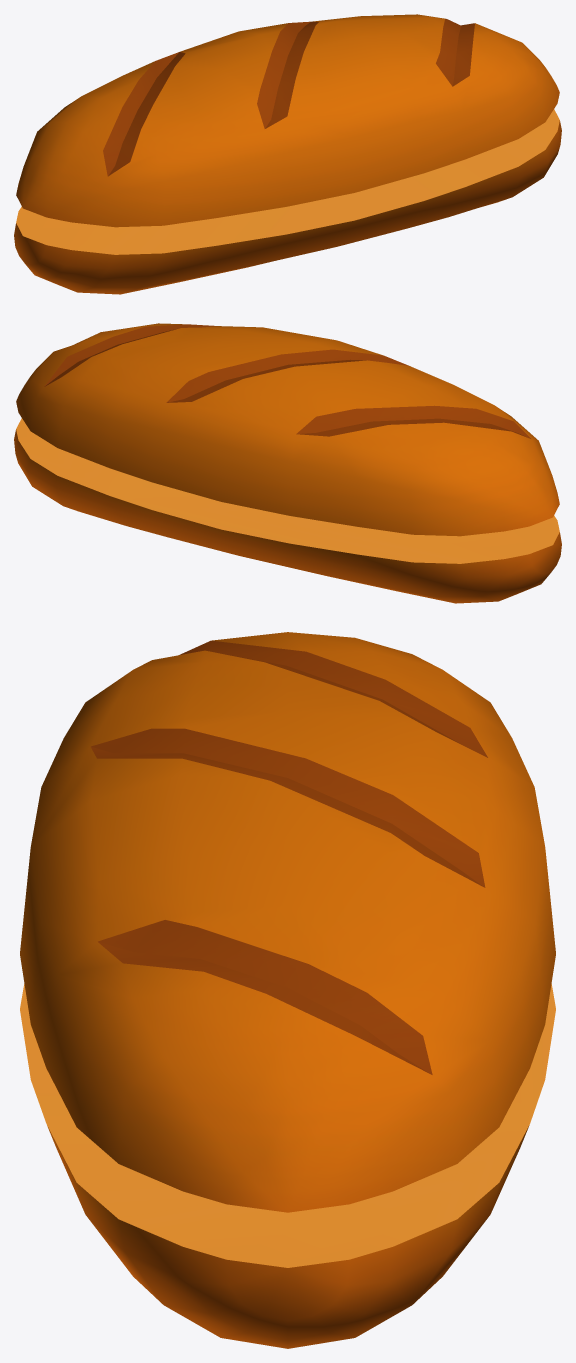
File: Sandwich_Loaf_top.004.fbx
The picture shows the model from 3 angles, top to bottom: view 1: azimuth 30°, elevation 25°; view 2: azimuth 150°, elevation 25°; view 3: azimuth 270°, elevation 25°; orthographic projection. The views are drawn at different scales.
Parts seen in each view (by area): view 1: Sandwich_Loaf_top.004, Sandwich_Loaf_Bottom.004; view 2: Sandwich_Loaf_top.004, Sandwich_Loaf_Bottom.004; view 3: Sandwich_Loaf_top.004, Sandwich_Loaf_Bottom.004.
Boxes of the visible parts, x1=… form: Sandwich_Loaf_top.004: x1=16, y1=14, x2=559, y2=227; Sandwich_Loaf_Bottom.004: x1=14, y1=109, x2=561, y2=294; Sandwich_Loaf_top.004: x1=16, y1=323, x2=559, y2=536; Sandwich_Loaf_Bottom.004: x1=14, y1=418, x2=561, y2=603; Sandwich_Loaf_top.004: x1=20, y1=632, x2=555, y2=1212; Sandwich_Loaf_Bottom.004: x1=20, y1=984, x2=555, y2=1348.
Bounding box in the file's own units: 172 × 58.21 × 75.14.
